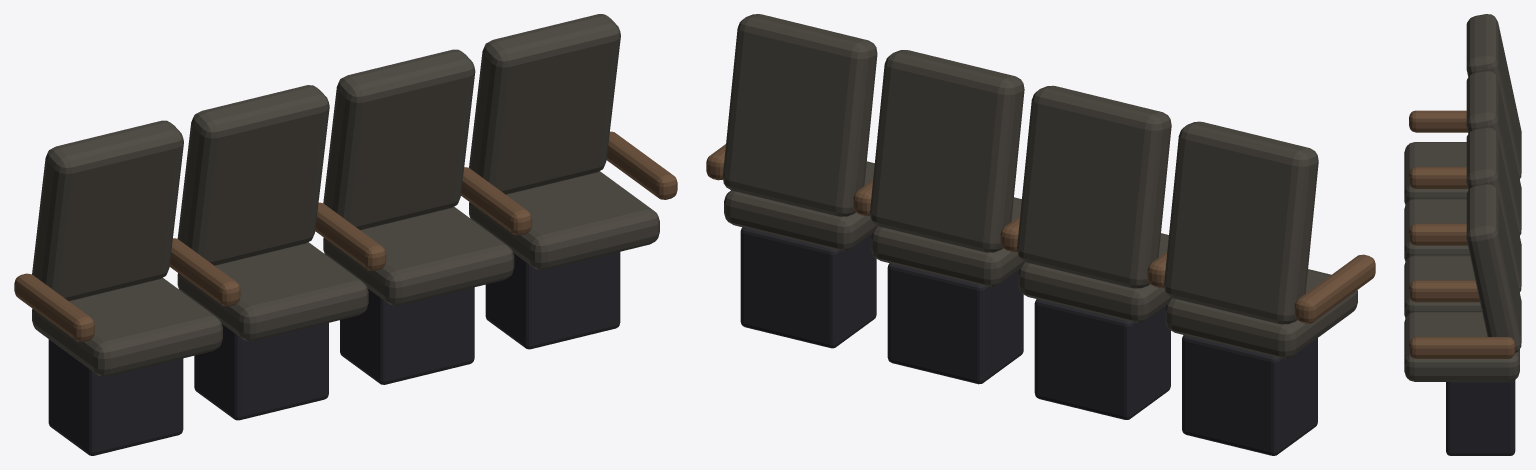
Rendered from cinema-row.glb.
3 renders of one model, left to right at view 1: azimuth 30°, elevation 25°; view 2: azimuth 150°, elevation 25°; view 3: azimuth 270°, elevation 25°, orthographic. The views are drawn at different scales.
Parts seen in each view (by area): view 1: cin_back_3, cin_back_0, cin_back_2, cin_back_1, cin_base_0, cin_seat_0, cin_seat_2, cin_seat_1, cin_seat_3, cin_base_3, cin_base_2, cin_base_1 (+5 smaller); view 2: cin_back_0, cin_back_3, cin_back_1, cin_back_2, cin_base_0, cin_base_1, cin_base_2, cin_base_3, cin_seat_0, cin_seat_1, cin_seat_2, cin_seat_3 (+1 smaller); view 3: cin_back_3, cin_base_3, cin_seat_3, cin_back_1, cin_back_2, cin_back_0, cin_seat_2, cin_seat_1, cin_seat_0, cin_arm_4, cin_arm_3, cin_arm_2 (+2 smaller).
Part boxes in pixels (<box>): cin_back_3: <box>469,14,620,194</box>; cin_back_0: <box>32,120,183,301</box>; cin_back_2: <box>323,49,475,230</box>; cin_back_1: <box>177,85,329,265</box>; cin_base_0: <box>48,339,183,455</box>; cin_seat_0: <box>32,278,222,376</box>; cin_seat_2: <box>323,207,514,305</box>; cin_seat_1: <box>177,242,368,341</box>; cin_seat_3: <box>469,171,659,269</box>; cin_base_3: <box>485,252,620,349</box>; cin_base_2: <box>340,287,474,384</box>; cin_base_1: <box>194,323,328,420</box>; cin_back_0: <box>1164,121,1318,324</box>; cin_back_3: <box>722,14,877,216</box>; cin_back_1: <box>1017,85,1171,288</box>; cin_back_2: <box>870,50,1024,252</box>; cin_base_0: <box>1182,335,1317,455</box>; cin_base_1: <box>1034,299,1170,419</box>; cin_base_2: <box>887,263,1023,384</box>; cin_base_3: <box>740,227,876,348</box>; cin_seat_0: <box>1165,269,1357,358</box>; cin_seat_1: <box>1018,233,1171,322</box>; cin_seat_2: <box>871,197,1024,286</box>; cin_seat_3: <box>724,161,877,250</box>; cin_back_3: <box>1466,184,1521,352</box>; cin_base_3: <box>1446,380,1515,455</box>; cin_seat_3: <box>1404,312,1519,381</box>; cin_back_1: <box>1466,70,1521,235</box>; cin_back_2: <box>1466,127,1521,292</box>; cin_back_0: <box>1466,14,1521,178</box>; cin_seat_2: <box>1404,255,1481,317</box>; cin_seat_1: <box>1404,198,1469,261</box>; cin_seat_0: <box>1404,142,1468,204</box>; cin_arm_4: <box>1409,337,1515,358</box>; cin_arm_3: <box>1409,280,1479,302</box>; cin_arm_2: <box>1409,223,1467,245</box>.
Size of the model in its own units: 2.4 by 1.12 by 0.5074.
